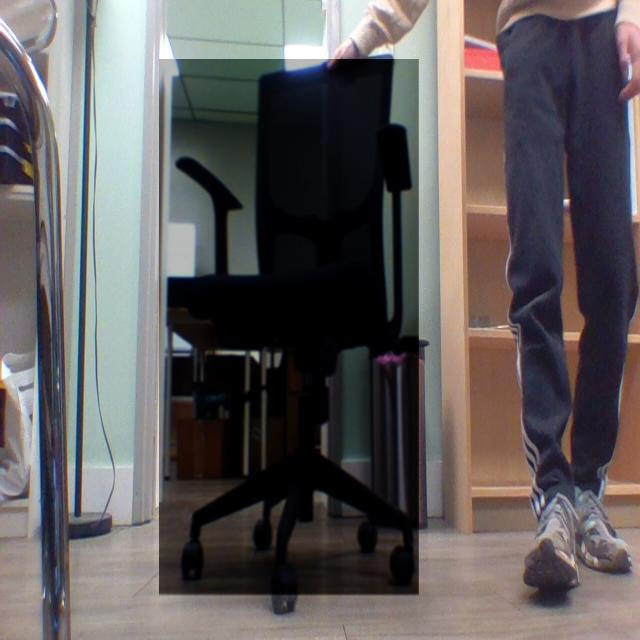black-chair: (159, 60, 420, 598)
